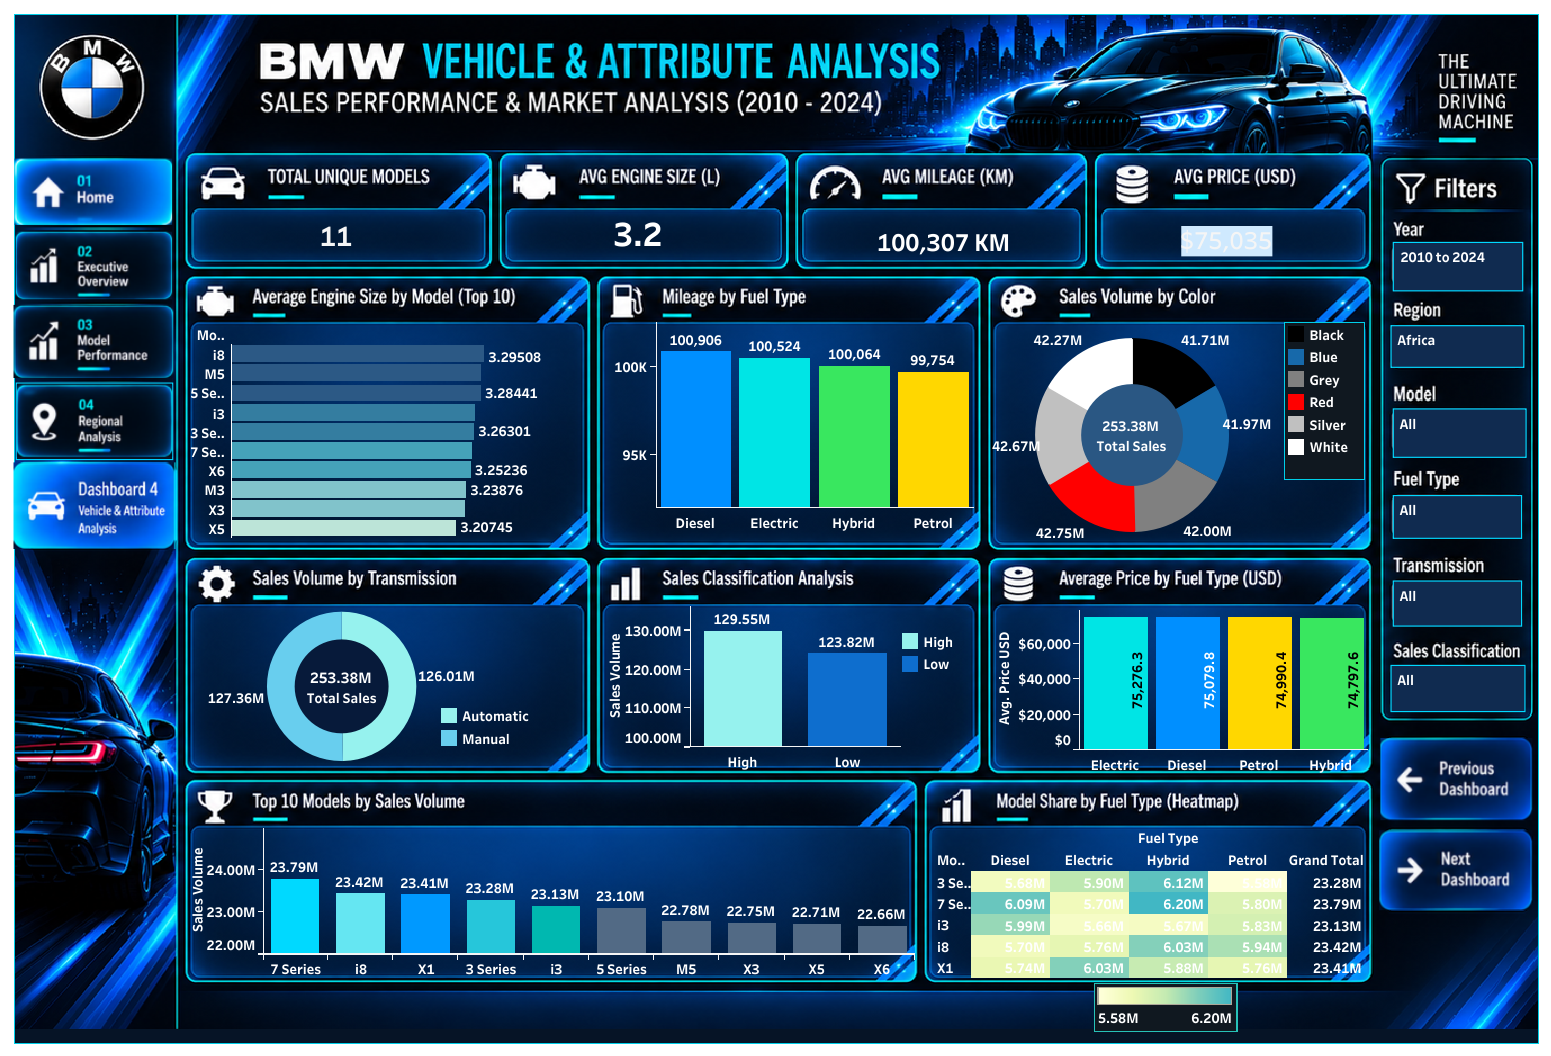

What the dashboard file says about the page in this screenshot:
{"tool":"tableau","page":{"name":"Dashboard 4","canvas":[1380,940],"ordinal":3},"visuals":[{"type":"image","param":"Image/BMW_Dashboard_4_Template_1350x900.png","box":[8,8,1364,924]},{"type":"dashboard-object","box":[12,141,142,60]},{"type":"worksheet","title":"KPI - Avg Engine Size","mark":"Automatic","box":[526,183,87,50]},{"type":"worksheet","title":"KPI - Total Models","mark":"Automatic","box":[269,185,97,64]},{"type":"worksheet","title":"KPI - Avg Mileage","mark":"Automatic","box":[736,193,288,38]},{"type":"worksheet","title":"KPI - Average Price","mark":"Text","rows":["Price_USD"],"box":[1019,195,149,47]},{"type":"dashboard-object","box":[14,202,140,68]},{"type":"filter","title":"Average Engine Size By Model","param":"[federated.18z69gv0p5a0b11arvxvz0n9zdok].[none:Year:qk]","box":[1238,215,116,44]},{"type":"dashboard-object","box":[12,269,142,69]},{"type":"worksheet","title":"Average Engine Size By Model","mark":"Automatic","rows":["Model"],"cols":["Engine_Size_L"],"box":[169,286,349,203]},{"type":"worksheet","title":"Mileage By Fuel Type","mark":"Automatic","rows":["Mileage_KM"],"cols":["Fuel_Type"],"box":[535,286,330,197]},{"type":"worksheet","title":"Sales Volume By Colour","mark":"Pie","rows":["Calculation_3610198107011338243","Calculation_3610198107011338243"],"box":[882,286,249,201]},{"type":"legend","title":"Sales Volume By Colour","param":"[federated.18z69gv0p5a0b11arvxvz0n9zdok].[none:Color:nk]","box":[1141,286,72,142]},{"type":"filter","title":"Average Engine Size By Model","param":"[federated.18z69gv0p5a0b11arvxvz0n9zdok].[none:Region:nk]","box":[1236,289,119,38]},{"type":"dashboard-object","box":[14,340,140,69]},{"type":"filter","title":"Top 10 Models by Sales Volume","param":"[federated.18z69gv0p5a0b11arvxvz0n9zdok].[none:Model:nk]","box":[1238,363,119,44]},{"type":"dashboard-object","box":[12,411,144,77]},{"type":"filter","title":"Top 10 Models by Sales Volume","param":"[federated.18z69gv0p5a0b11arvxvz0n9zdok].[none:Fuel_Type:nk]","box":[1238,440,115,39]},{"type":"filter","title":"Top 10 Models by Sales Volume","param":"[federated.18z69gv0p5a0b11arvxvz0n9zdok].[none:Transmission:nk]","box":[1238,516,115,41]},{"type":"worksheet","title":"Sales Volume By Transmission","mark":"Pie","rows":["Calculation_3610198107011338243","Calculation_3610198107011338243"],"box":[171,535,266,150]},{"type":"worksheet","title":"Sales Classification Analysis","mark":"Automatic","rows":["Sales_Volume"],"cols":["Sales_Classification"],"box":[537,539,263,147]},{"type":"worksheet","title":"Average Price by Fuel Type","mark":"Automatic","rows":["Price_USD"],"cols":["Fuel_Type"],"box":[883,542,332,146]},{"type":"legend","title":"Sales Classification Analysis","param":"[federated.18z69gv0p5a0b11arvxvz0n9zdok].[none:Sales_Classification:nk]","box":[799,560,67,42]},{"type":"filter","title":"Sales Classification Analysis","param":"[federated.18z69gv0p5a0b11arvxvz0n9zdok].[none:Sales_Classification:nk]","box":[1236,591,120,42]},{"type":"legend","title":"Sales Volume By Transmission","param":"[federated.18z69gv0p5a0b11arvxvz0n9zdok].[none:Transmission:nk]","box":[389,626,140,64]},{"type":"dashboard-object","box":[1226,656,138,73]},{"type":"worksheet","title":"Model Share by Fuel Type","mark":"Square","rows":["Model"],"cols":["Fuel_Type"],"box":[827,734,387,135]},{"type":"worksheet","title":"Top 10 Models by Sales Volume","mark":"Automatic","rows":["Sales_Volume"],"cols":["Model"],"box":[166,736,647,134]},{"type":"dashboard-object","box":[1226,737,136,73]},{"type":"legend","title":"Model Share by Fuel Type","param":"[federated.18z69gv0p5a0b11arvxvz0n9zdok].[sum:Sales_Volume:qk]","box":[972,874,128,43]}]}

Visuals, with their boxes in screenshot pixels (x1, y1, x2, y2), scaled from the page's 1380x940 canvas onto the 1551x1056 screenshot:
image: 9, 9, 1542, 1047
dashboard-object: 13, 158, 173, 226
"KPI - Avg Engine Size" worksheet: 591, 206, 689, 262
"KPI - Total Models" worksheet: 302, 208, 411, 280
"KPI - Avg Mileage" worksheet: 827, 217, 1151, 260
"KPI - Average Price" worksheet (Text marks): 1145, 219, 1313, 272
dashboard-object: 16, 227, 173, 303
"Average Engine Size By Model" filter: 1391, 242, 1522, 291
dashboard-object: 13, 302, 173, 380
"Average Engine Size By Model" worksheet: 190, 321, 582, 549
"Mileage By Fuel Type" worksheet: 601, 321, 972, 543
"Sales Volume By Colour" worksheet (Pie marks): 991, 321, 1271, 547
"Sales Volume By Colour" legend: 1282, 321, 1363, 481
"Average Engine Size By Model" filter: 1389, 325, 1523, 367
dashboard-object: 16, 382, 173, 459
"Top 10 Models by Sales Volume" filter: 1391, 408, 1525, 457
dashboard-object: 13, 462, 175, 548
"Top 10 Models by Sales Volume" filter: 1391, 494, 1521, 538
"Top 10 Models by Sales Volume" filter: 1391, 580, 1521, 626
"Sales Volume By Transmission" worksheet (Pie marks): 192, 601, 491, 770
"Sales Classification Analysis" worksheet: 604, 606, 899, 771
"Average Price by Fuel Type" worksheet: 992, 609, 1366, 773
"Sales Classification Analysis" legend: 898, 629, 973, 676
"Sales Classification Analysis" filter: 1389, 664, 1524, 711
"Sales Volume By Transmission" legend: 437, 703, 595, 775
dashboard-object: 1378, 737, 1533, 819
"Model Share by Fuel Type" worksheet (Square marks): 929, 825, 1364, 976
"Top 10 Models by Sales Volume" worksheet: 187, 827, 914, 977
dashboard-object: 1378, 828, 1531, 910
"Model Share by Fuel Type" legend: 1092, 982, 1236, 1030
